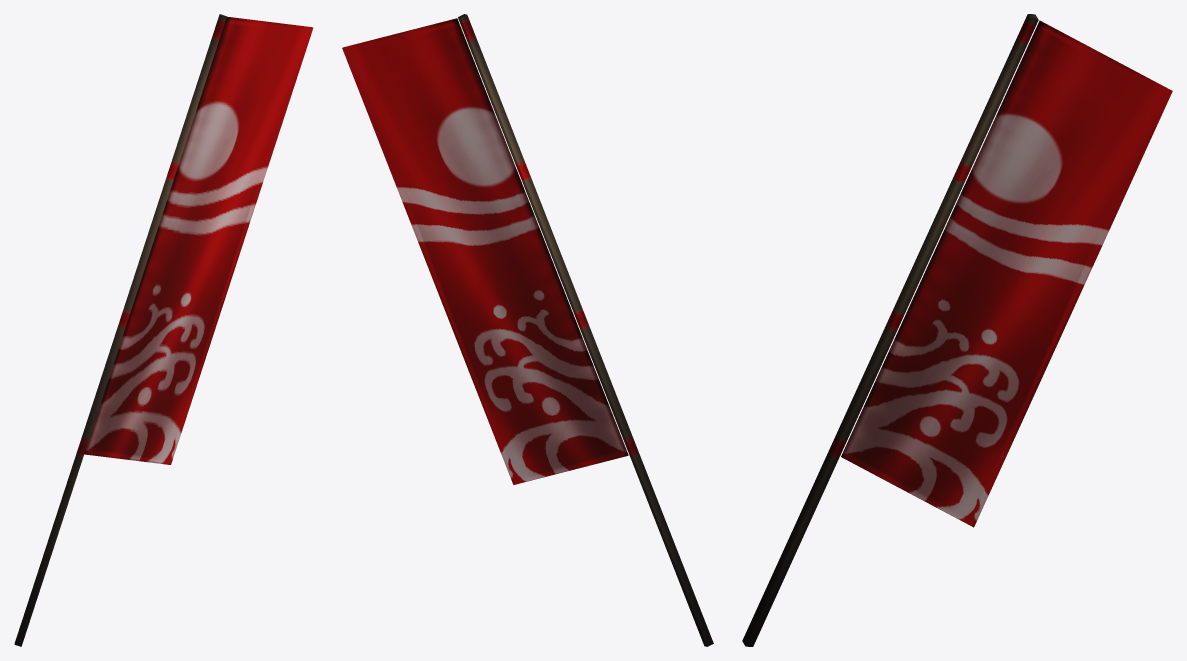
3 renders of one model, left to right at view 1: azimuth 30°, elevation 25°; view 2: azimuth 150°, elevation 25°; view 3: azimuth 330°, elevation 25°, orthographic. The views are drawn at different scales.
Parts seen in each view (by area): view 1: 3_Z_31; view 2: 3_Z_31; view 3: 3_Z_31.
Part boxes in pixels (x1=…): 3_Z_31: x1=14, y1=14, x2=313, y2=646; 3_Z_31: x1=342, y1=14, x2=713, y2=646; 3_Z_31: x1=742, y1=14, x2=1172, y2=646.
Bounding box in the file's own units: 171 × 28.92 × 283.
